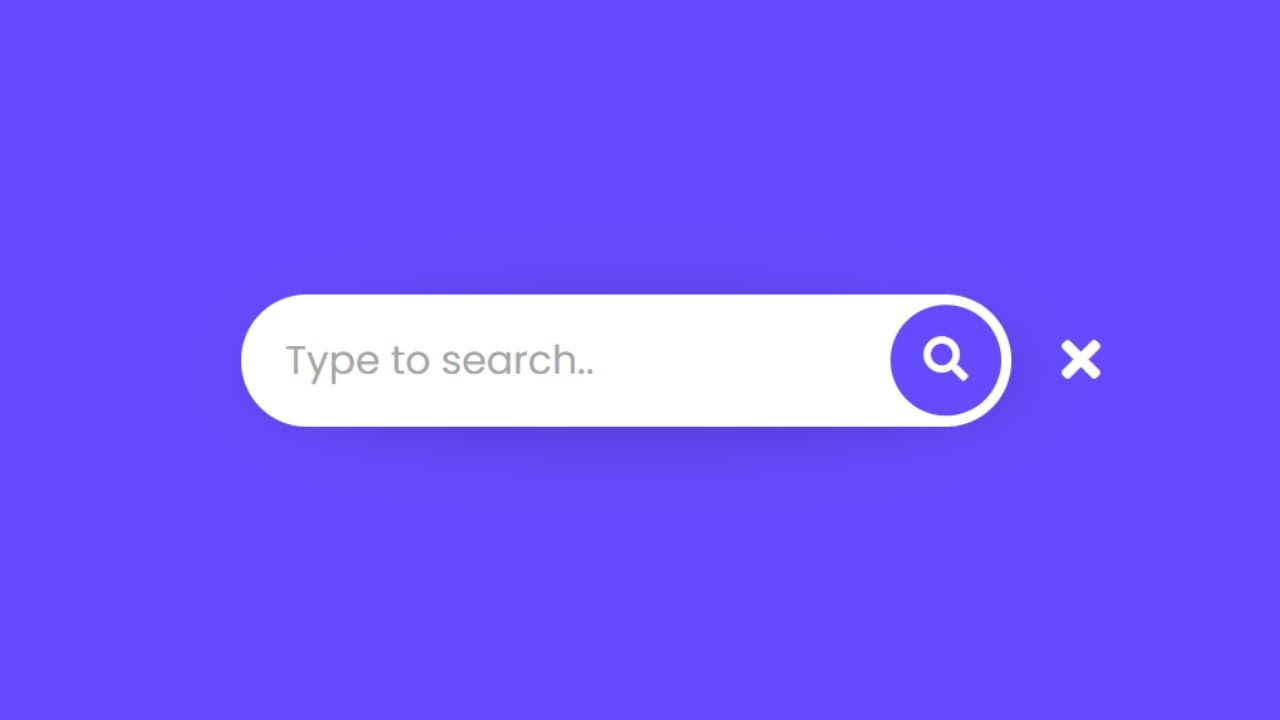search_box: (246, 295, 1011, 422)
